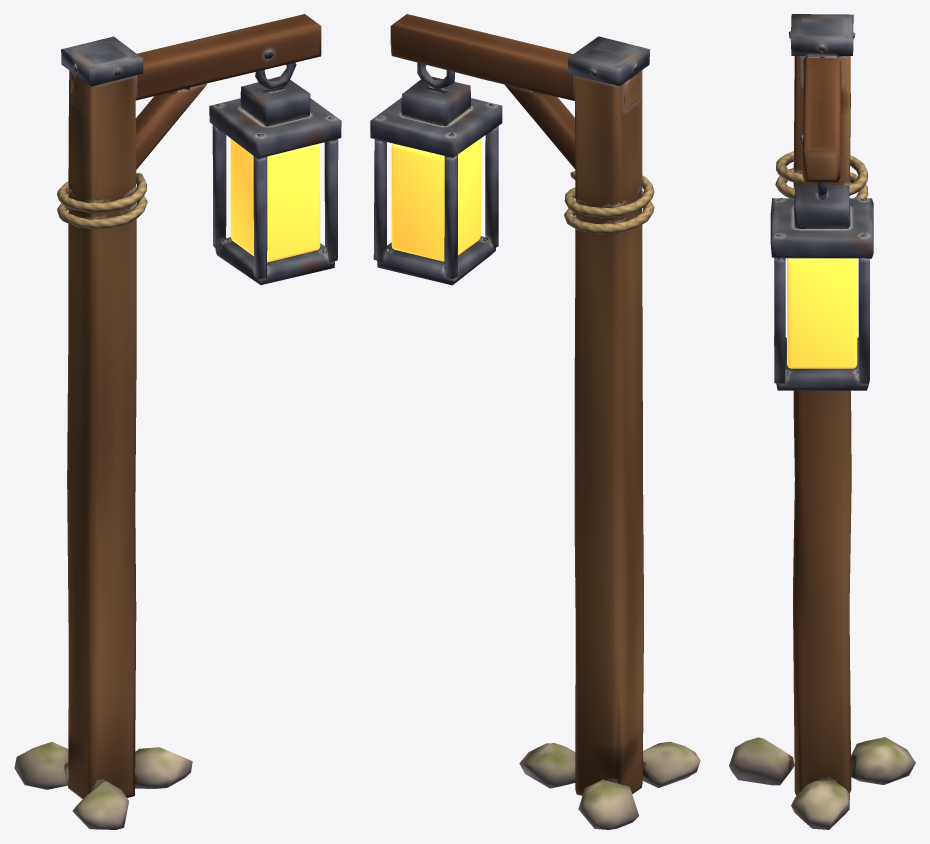
File: lantern_post.glb
3 views of the same model, side by side, from view 1: azimuth 30°, elevation 25°; view 2: azimuth 150°, elevation 25°; view 3: azimuth 270°, elevation 25° (orthographic). The views are drawn at different scales.
Parts seen in each view (by area): view 1: lantern_post, lantern_post_glass; view 2: lantern_post, lantern_post_glass; view 3: lantern_post, lantern_post_glass.
Part boxes in pixels (x1=…): lantern_post: x1=14, y1=14, x2=341, y2=829; lantern_post_glass: x1=230, y1=138, x2=320, y2=262; lantern_post: x1=370, y1=14, x2=700, y2=829; lantern_post_glass: x1=391, y1=138, x2=480, y2=261; lantern_post: x1=729, y1=14, x2=915, y2=829; lantern_post_glass: x1=787, y1=258, x2=857, y2=368.
Bounding box in the file's own units: 0.693 × 1.8 × 0.3991.
Materials: 2 (1 with a texture image).
